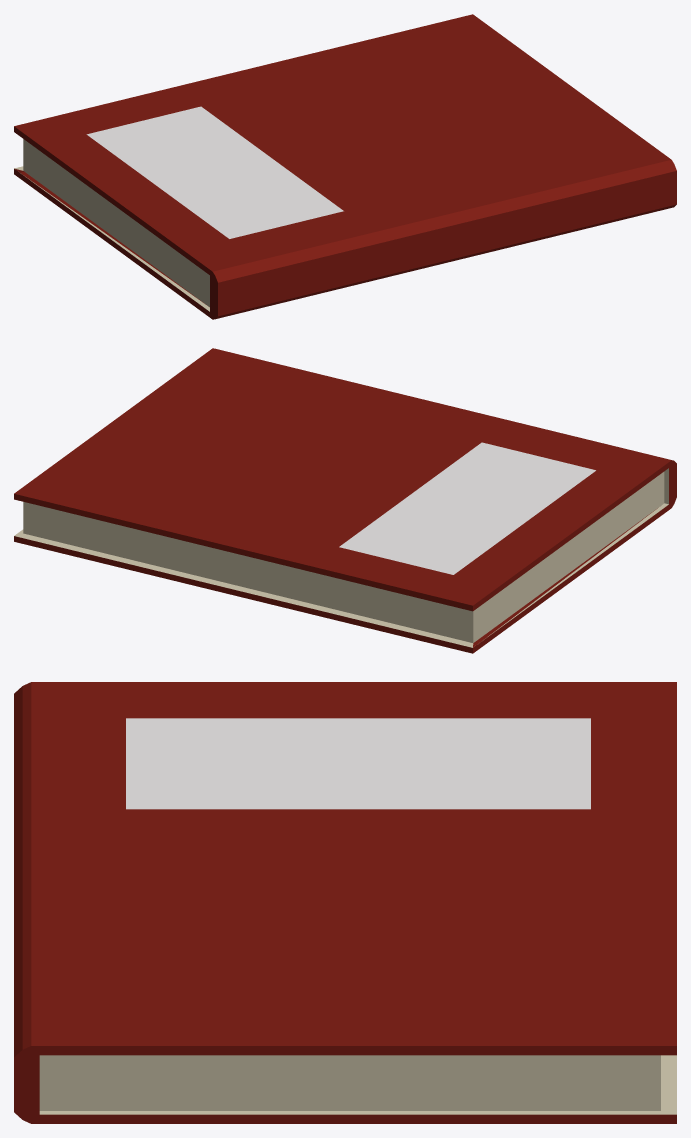
Rendered from Book.fbx.
3 renders of one model, top to bottom at view 1: azimuth 30°, elevation 25°; view 2: azimuth 150°, elevation 25°; view 3: azimuth 270°, elevation 25°, orthographic. The views are drawn at different scales.
Parts seen in each view (by area): view 1: Cube; view 2: Cube; view 3: Cube.
Part boxes in pixels (bbox=[...]): Cube: bbox=[14, 14, 676, 319]; Cube: bbox=[14, 348, 676, 653]; Cube: bbox=[14, 682, 676, 1123].
Size of the model in its own units: 100 by 10 by 77.
